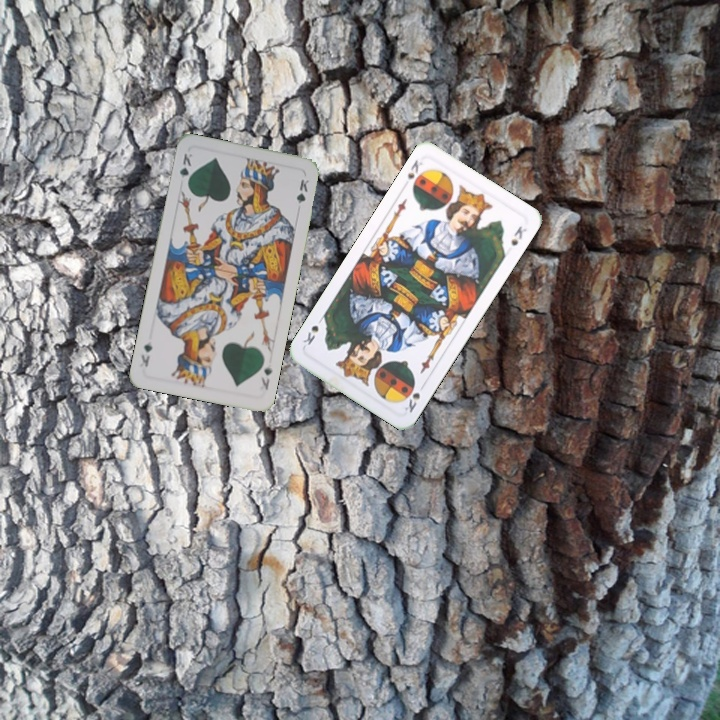GK: (175, 149, 195, 189), (256, 363, 275, 393)
SK: (400, 379, 428, 415), (403, 155, 425, 182)
